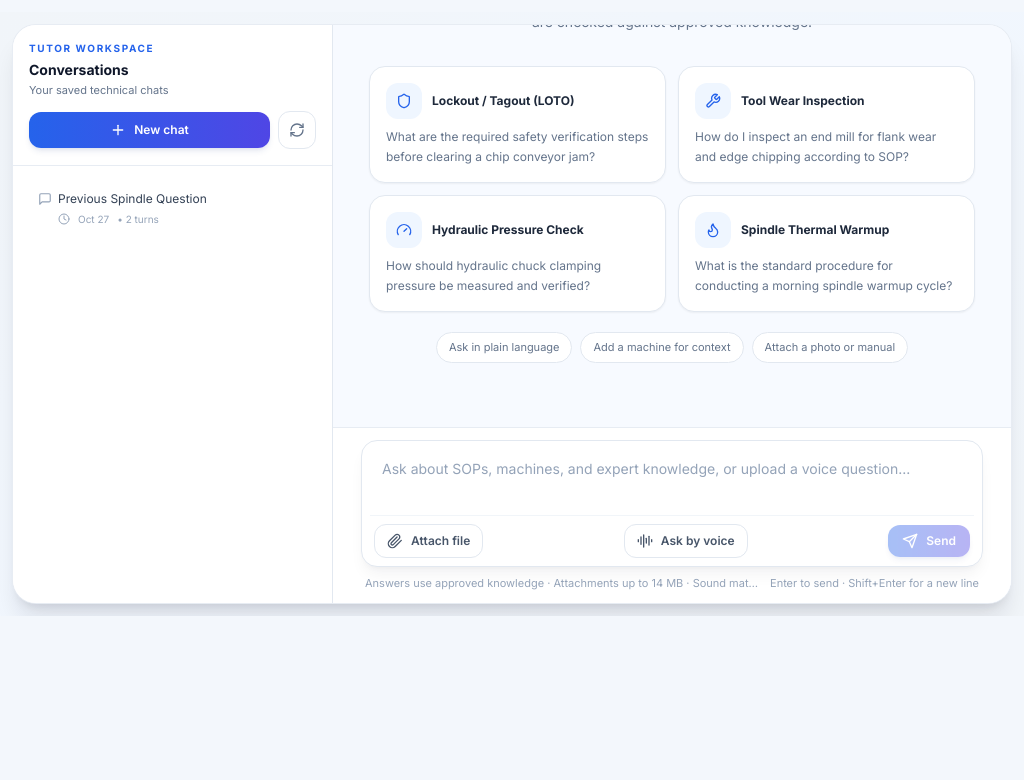
AI Knowledge Assistant UI Component Tests › renders insufficient evidence banner when no approved source is found
(page scrolled)
Type "Unknown mysterious procedure xyz" into the text box with placeholder "Ask about SOPs, machines" at (672, 478), box [370,448,974,508]
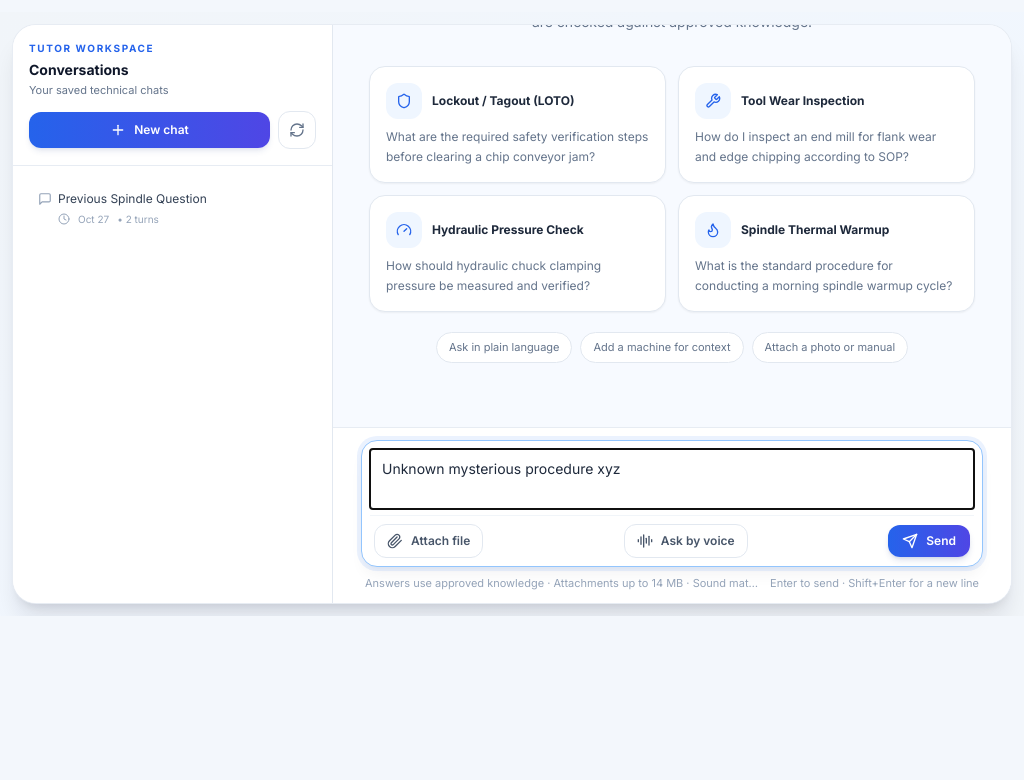
Click the button titled "Send query" at (929, 540), box [888,524,970,556]
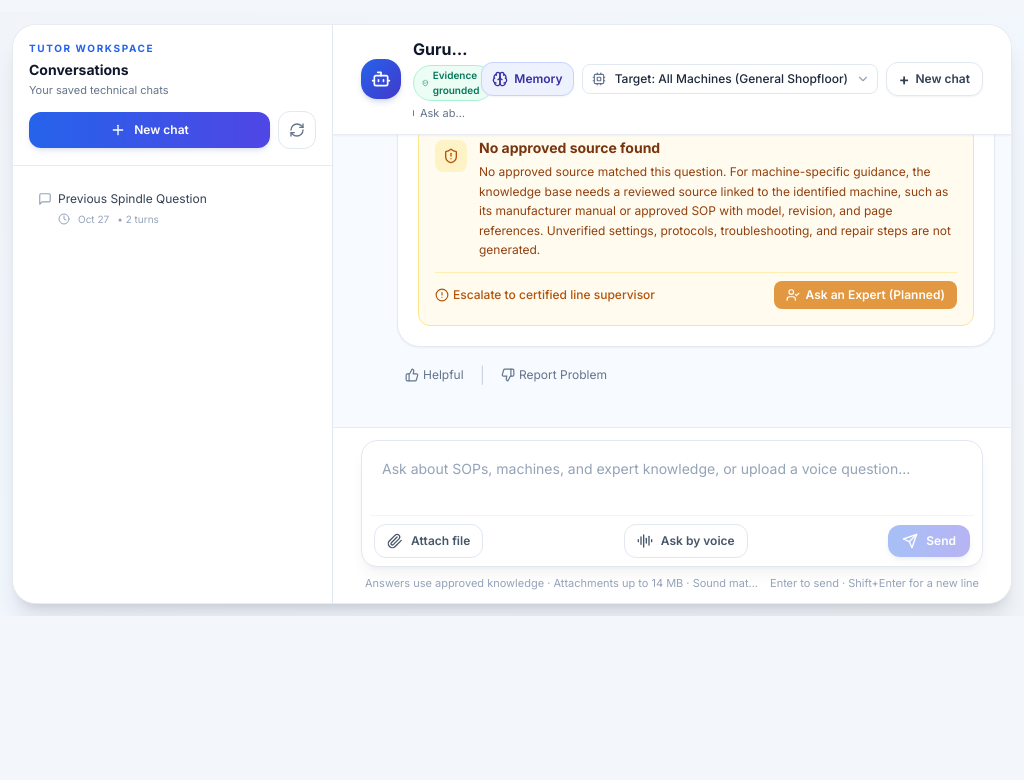
Check: the heading "No approved source found" is shown, box [479,139,660,156]
Check: the text "reviewed source linked to the identified machine" is shown, box [479,164,951,257]
Check: the text "Ask an Expert (Planned)" is shown, box [806,286,945,302]
